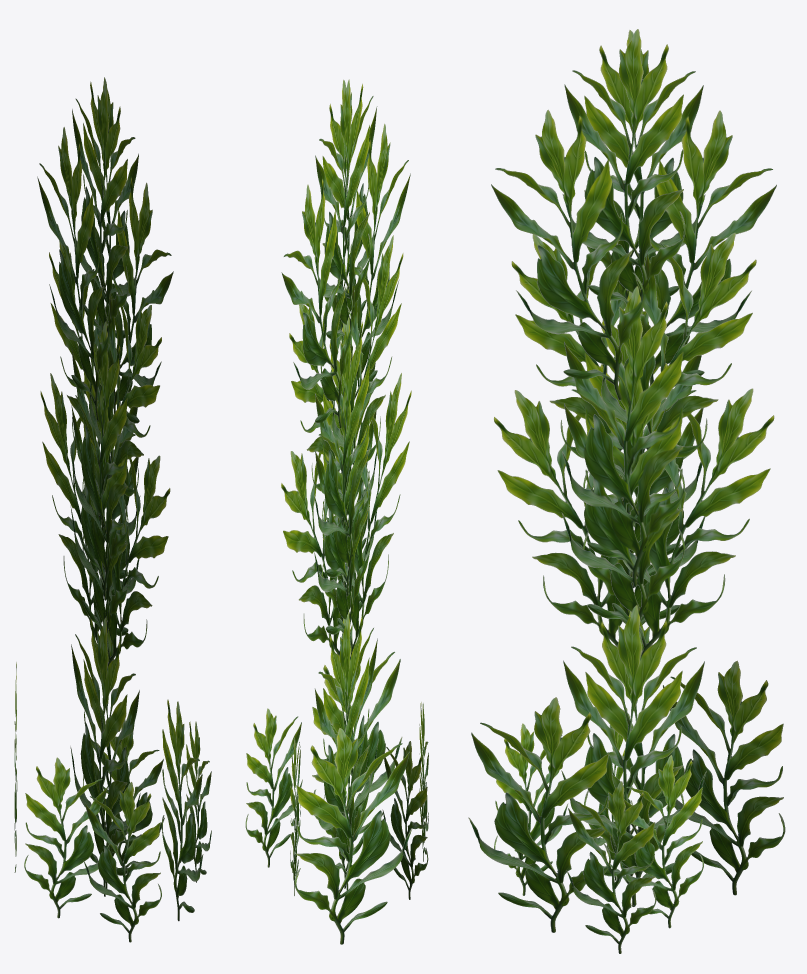
Rendered from Vine.fbx.
The picture shows the model from 3 angles, left to right: view 1: azimuth 30°, elevation 25°; view 2: azimuth 150°, elevation 25°; view 3: azimuth 270°, elevation 25°; orthographic projection. The views are drawn at different scales.
Parts seen in each view (by area): view 1: FlowerMesh.001; view 2: FlowerMesh.001; view 3: FlowerMesh.001.
Part boxes in pixels (bbox=[...]): FlowerMesh.001: bbox=[14, 77, 211, 942]; FlowerMesh.001: bbox=[245, 79, 428, 944]; FlowerMesh.001: bbox=[468, 29, 785, 953].
Size of the model in its own units: 48.94 by 222 by 73.95.
